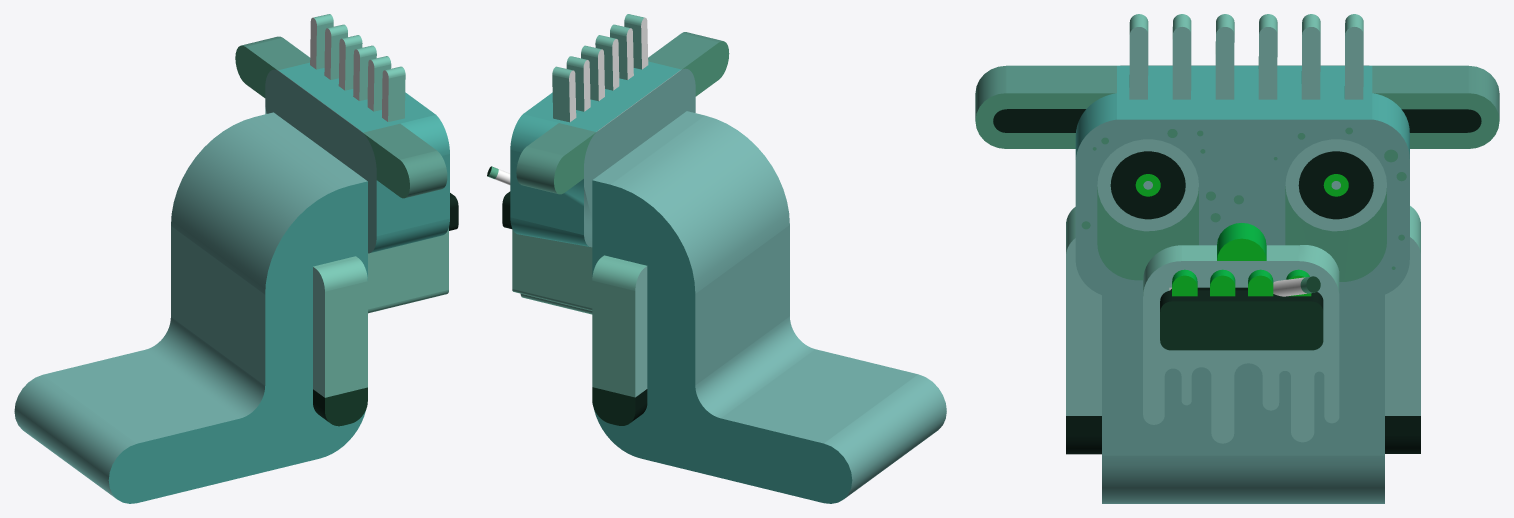
File: vieux.dae
3 views of the same model, side by side, from view 1: azimuth 30°, elevation 25°; view 2: azimuth 150°, elevation 25°; view 3: azimuth 270°, elevation 25° (orthographic). The views are drawn at different scales.
Parts seen in each view (by area): view 1: instance_11 (×2), instance_2 (×7), instance_9 (×3), instance_3, instance_6, instance_4, instance_8, instance_5, instance_7; view 2: instance_11 (×2), instance_2 (×7), instance_10 (×3), instance_8, instance_7, instance_5, instance_3, instance_6, instance_4; view 3: instance_2 (×18), instance_11, instance_14 (×2), instance_10 (×2), instance_9 (×2), instance_4, instance_5, instance_3, instance_6, instance_7, instance_8.
Part boxes in pixels (x1,y1,x2,y2): instance_11 (×2): (14,112,367,503); instance_2 (×7): (235,36,449,313); instance_9 (×3): (313,256,367,426); instance_3: (385,66,405,121); instance_6: (342,35,362,90); instance_4: (371,56,391,111); instance_8: (313,14,333,69); instance_5: (356,45,376,100); instance_7: (327,24,347,79); instance_11 (×2): (592,111,946,503); instance_2 (×7): (510,32,729,314); instance_10 (×3): (592,255,647,425); instance_8: (552,66,572,122); instance_7: (566,56,587,111); instance_5: (595,35,616,90); instance_3: (624,14,644,69); instance_6: (581,45,601,101); instance_4: (610,24,630,79); instance_2 (×18): (975,65,1499,443); instance_11: (1102,295,1384,503); instance_14 (×2): (1160,290,1323,350); instance_10 (×2): (1385,237,1420,453); instance_9 (×2): (1066,238,1101,454); instance_4: (1172,27,1191,99); instance_5: (1215,27,1234,99); instance_3: (1129,27,1148,99); instance_6: (1258,27,1277,99); instance_7: (1301,27,1320,99); instance_8: (1344,27,1363,99).
Bounding box in the file's own units: 66.2 × 51.56 × 58.59.
